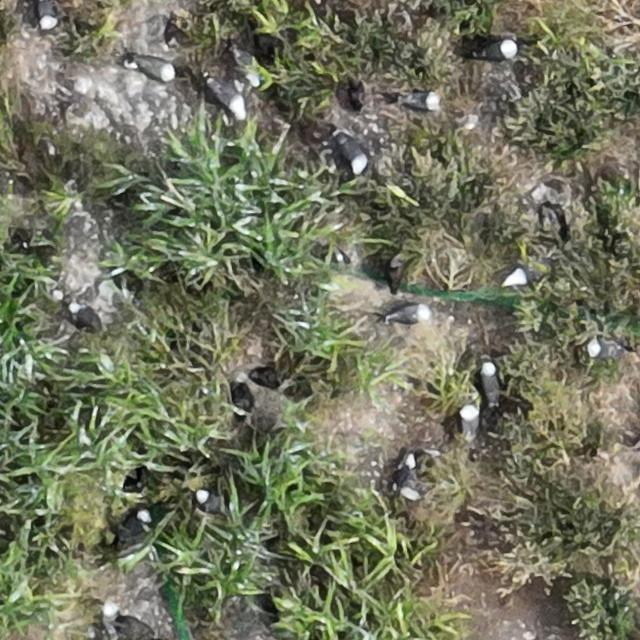umineko: (206, 76, 247, 115), (238, 50, 262, 90), (70, 305, 102, 334), (339, 140, 366, 174), (136, 58, 176, 79), (102, 602, 122, 639), (121, 510, 148, 537), (387, 304, 427, 322), (401, 91, 438, 110), (481, 40, 516, 60), (588, 338, 623, 358), (480, 363, 498, 401), (461, 404, 479, 440), (195, 492, 222, 516), (403, 451, 418, 494), (504, 268, 533, 286), (40, 1, 58, 28)
